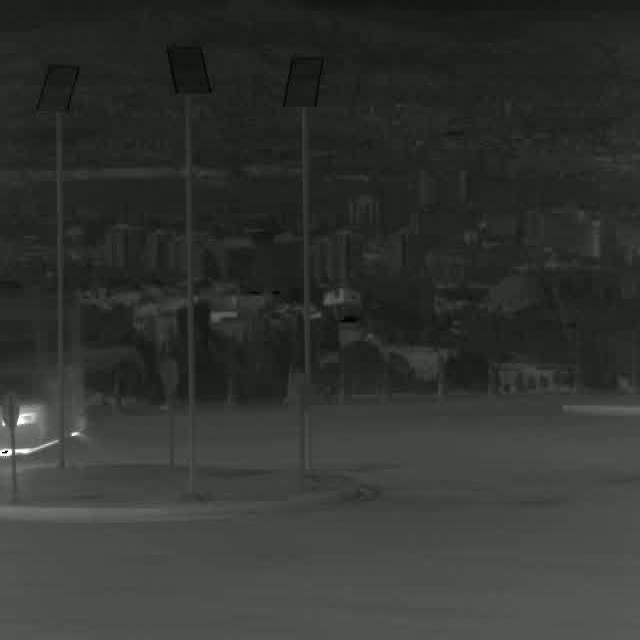Bus: (0, 287, 85, 466)
